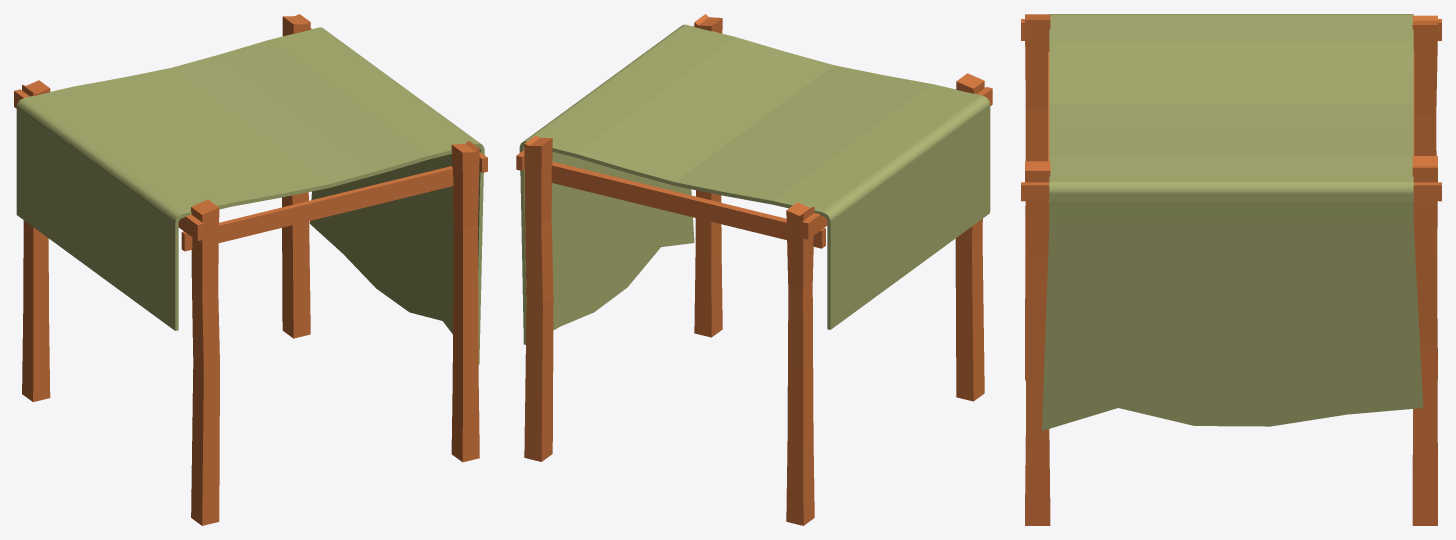
Rendered from Wood Base 2.glb.
The picture shows the model from 3 angles, left to right: view 1: azimuth 30°, elevation 25°; view 2: azimuth 150°, elevation 25°; view 3: azimuth 270°, elevation 25°; orthographic projection. The views are drawn at different scales.
Visible parts, largest first — view 1: WoodBase5; view 2: WoodBase5; view 3: WoodBase5.
Part boxes in pixels (left/top/right/bottom): WoodBase5: left=14, top=14, right=487, bottom=525; WoodBase5: left=516, top=14, right=992, bottom=525; WoodBase5: left=1021, top=14, right=1441, bottom=525.
Size of the model in its own units: 2.11 by 2.05 by 2.17.
